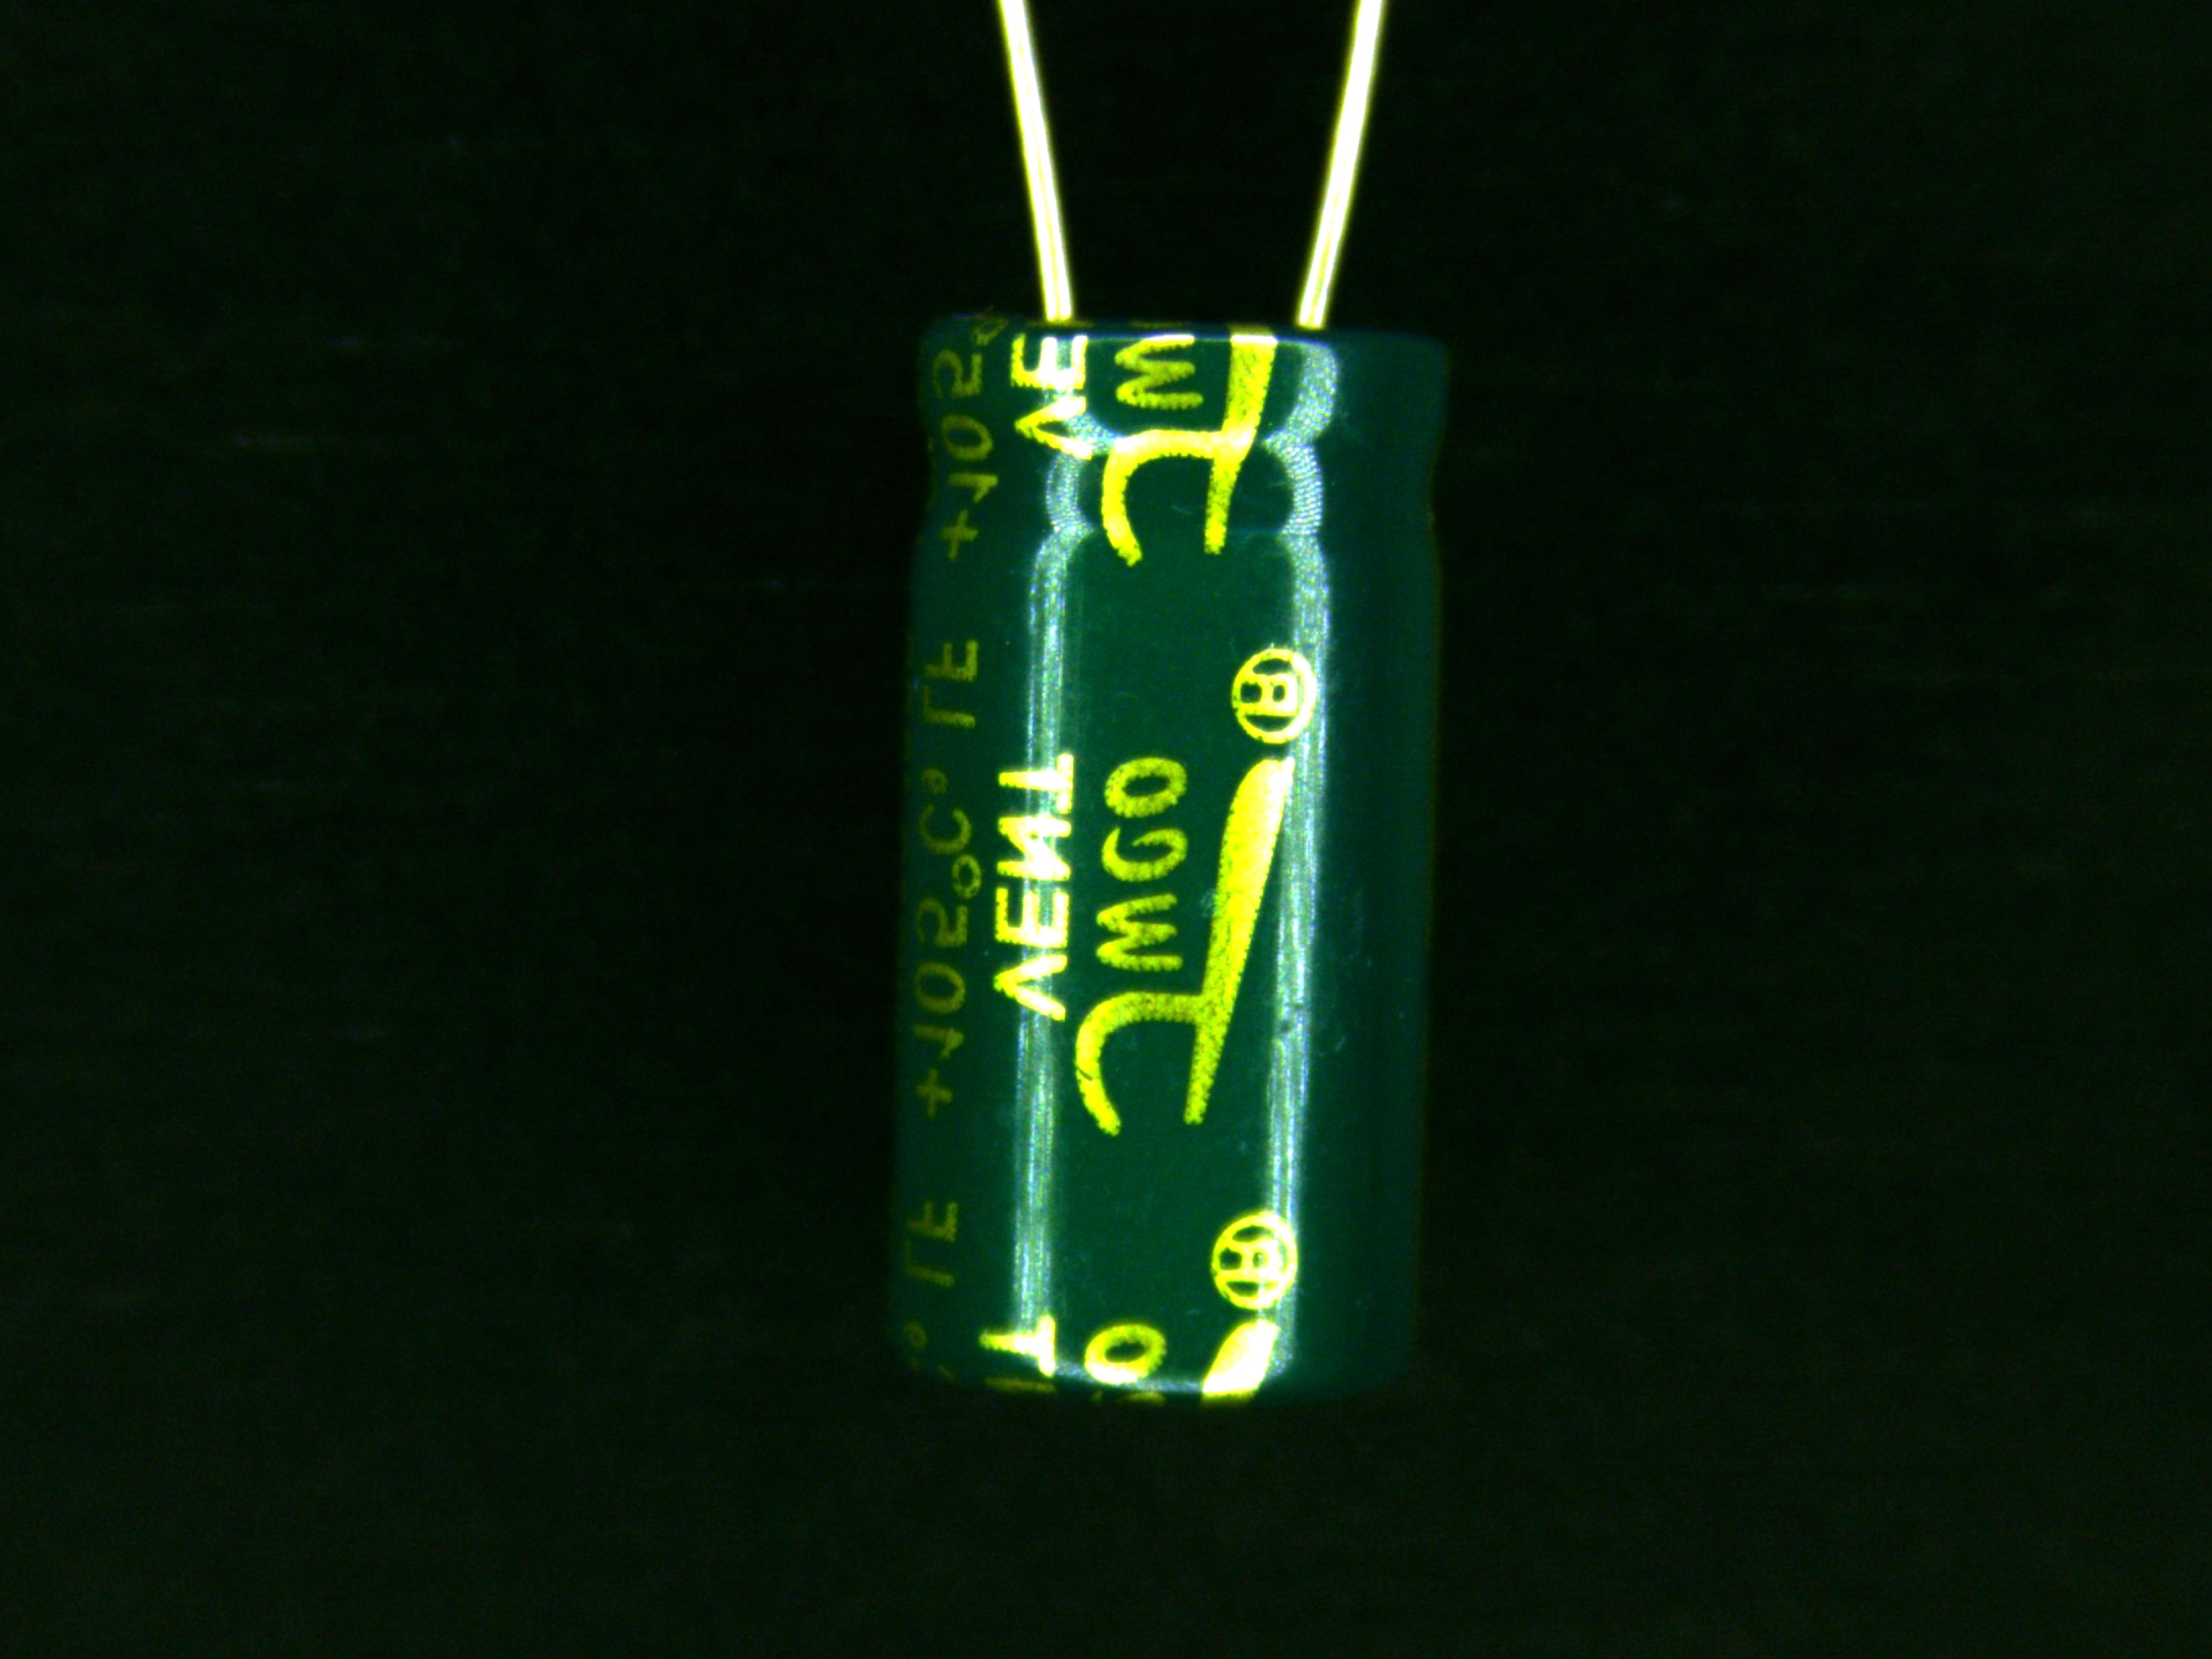c1: (878, 181, 1461, 1410)
